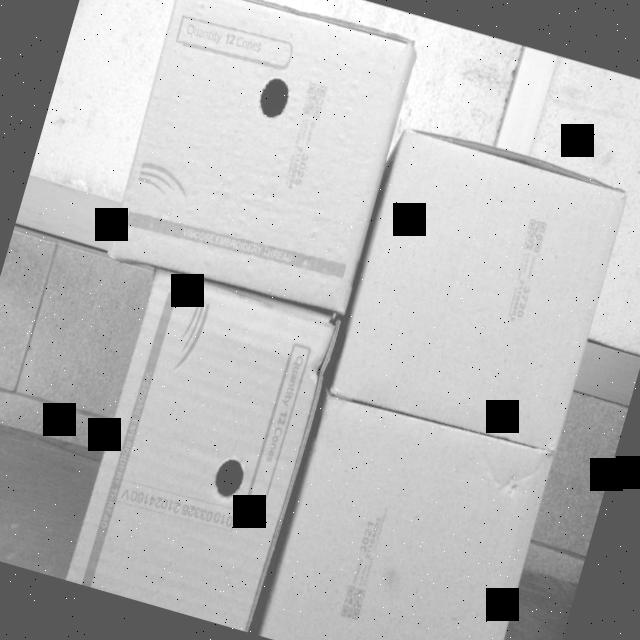box: (63, 260, 340, 632), (98, 0, 418, 322), (328, 122, 632, 456), (256, 379, 559, 640)
